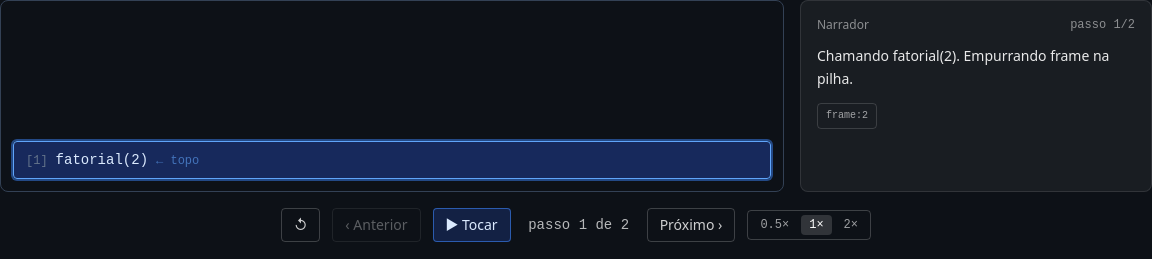
Test case: PilhaVisual › avanca para o proximo passo ao clicar Proximo
Click the button "Próximo ›": (691, 225) [647, 208, 735, 242]
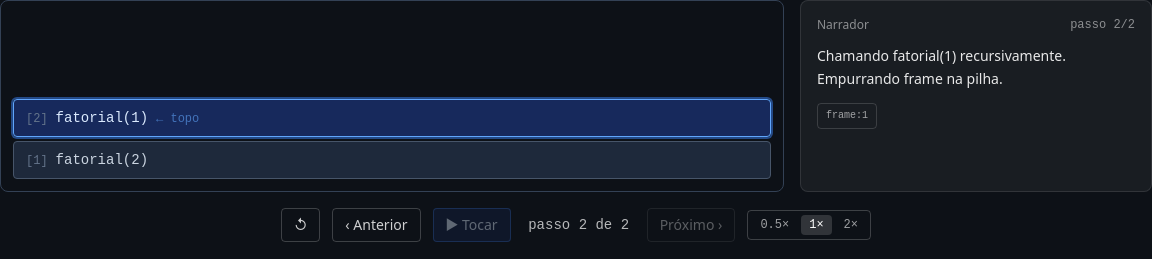
Now the text "passo 2 de 2" is shown, box [523, 215, 635, 235]
Now the text "recursivamente" is shown, box [817, 46, 1066, 88]
Now the element showing "[2]fatorial(1)← topo" is shown, box [13, 99, 771, 137]
